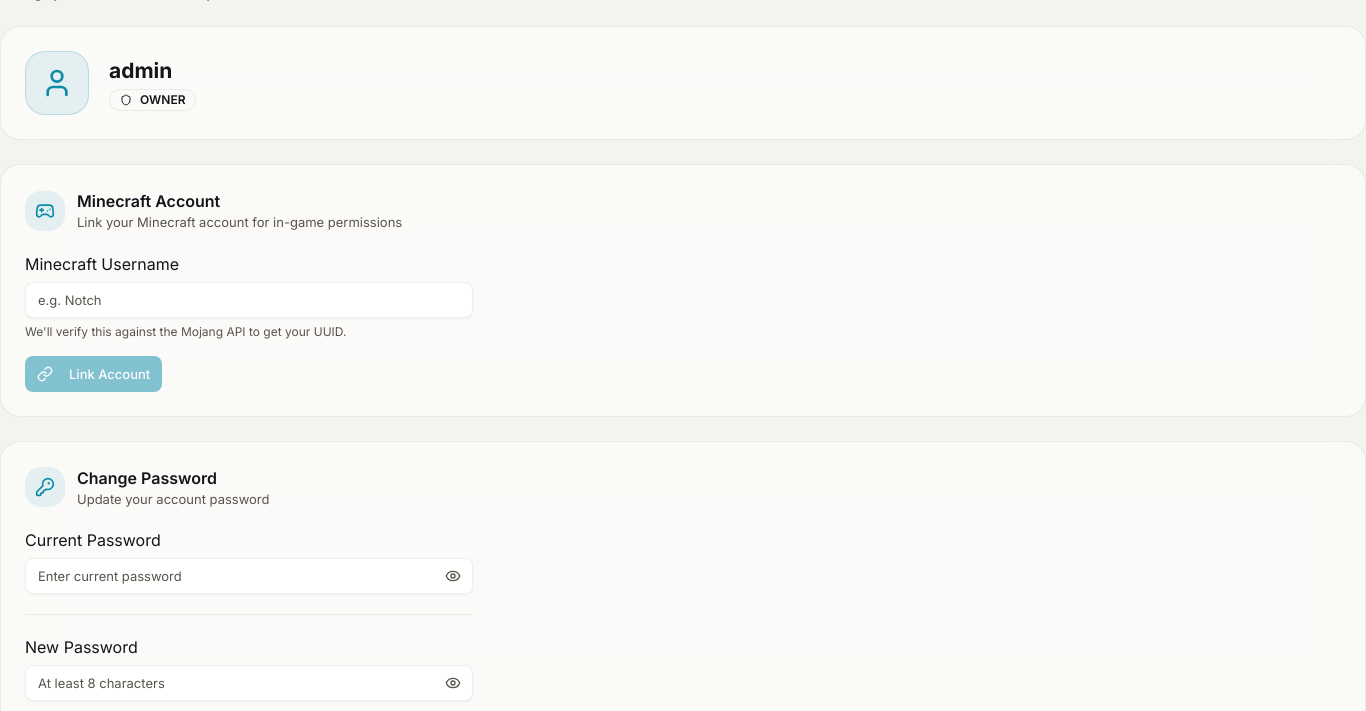
profile › shows a mismatch hint and skips the request when passwords differ
The width and height of the screenshot is (1366, 711).
Type "oldpass" into the password field with id "current-password". click: (249, 576)
box: [25,558,473,594]
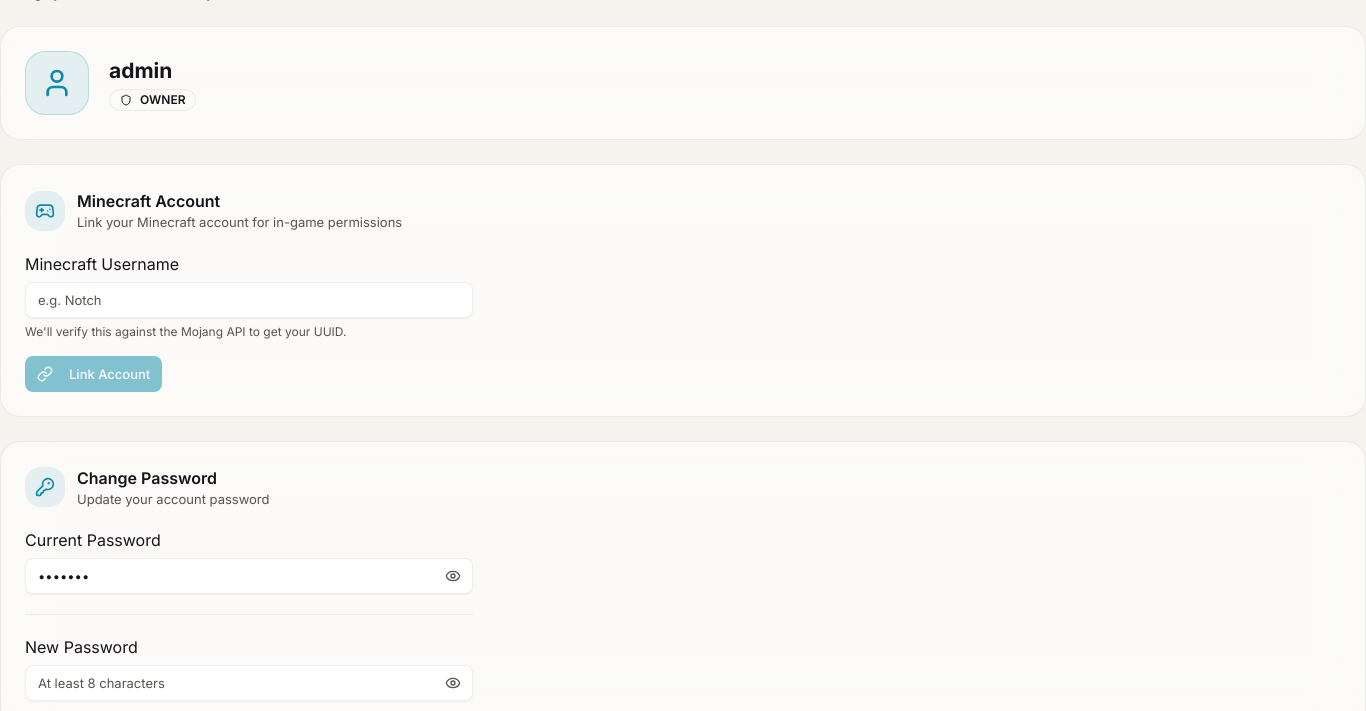
Type "newlongpass" into the password field with id "new-password". click: (249, 684)
box: [25,666,473,702]
(page scrolled)
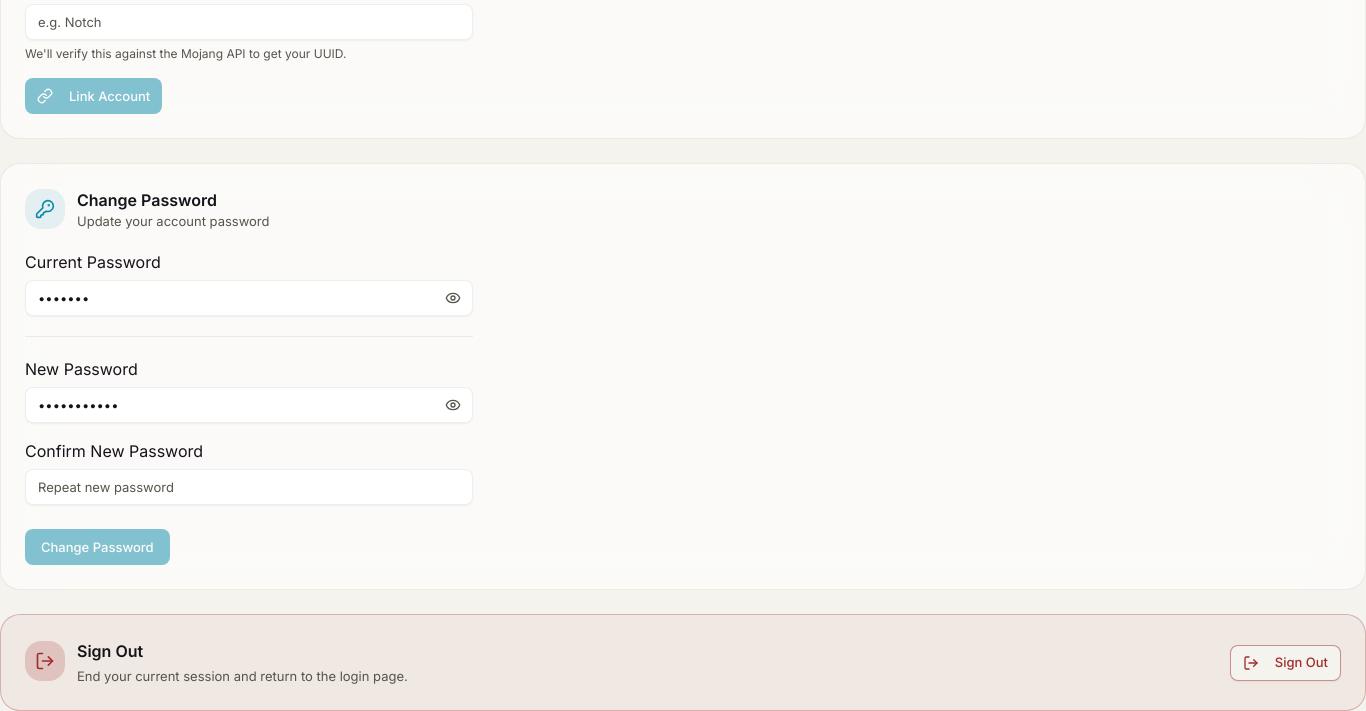
Type "different" into the password field with id "confirm-password". click: (249, 488)
box: [25,470,473,506]
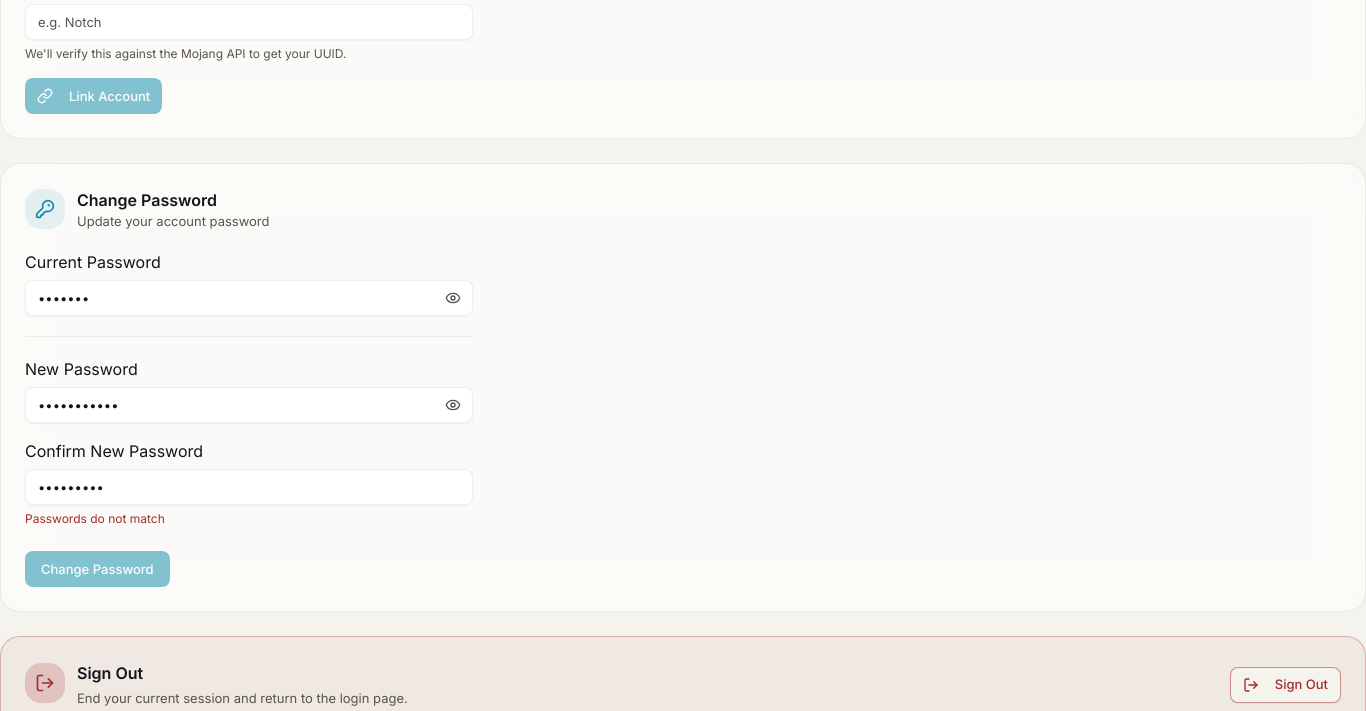
Expected: the text "Passwords do not match" is shown, [25,512,165,526]
